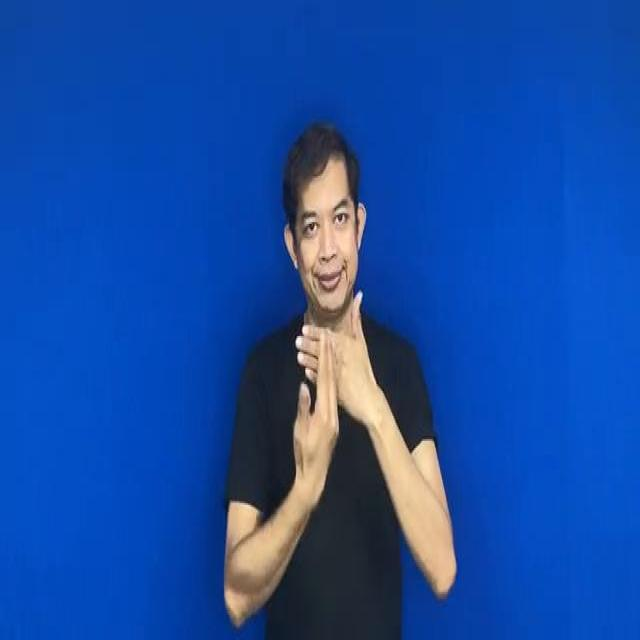bread: (276, 293, 382, 510)
